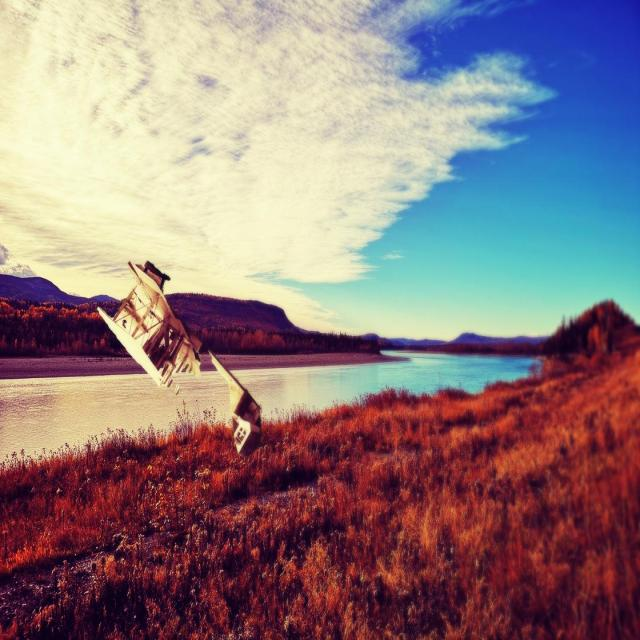airplane: (96, 258, 262, 457)
